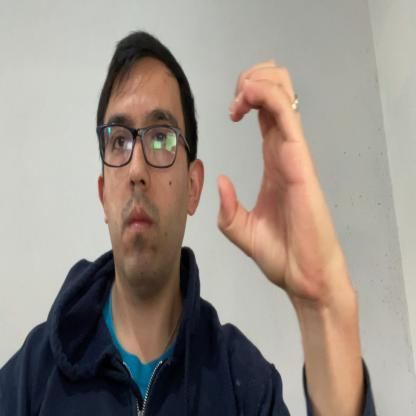C: (218, 59, 327, 302)
